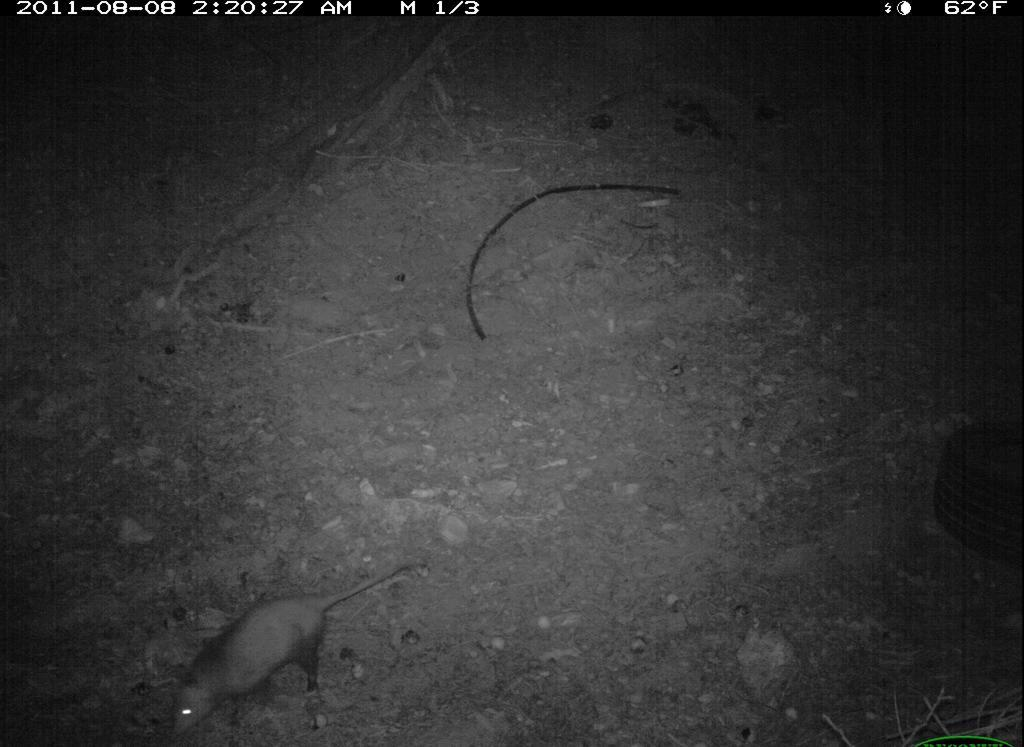opossum: (166, 551, 431, 740)
